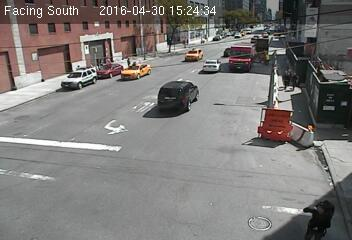neg: (43, 127, 72, 166), (183, 123, 210, 159), (98, 110, 118, 137), (282, 19, 300, 42), (187, 63, 204, 86), (208, 21, 224, 43), (164, 89, 177, 107), (234, 56, 247, 73), (51, 89, 64, 106), (76, 63, 87, 78), (115, 29, 125, 42)
pos: (303, 195, 334, 236), (287, 72, 304, 94), (277, 69, 293, 90), (285, 66, 298, 84), (122, 55, 132, 68)
